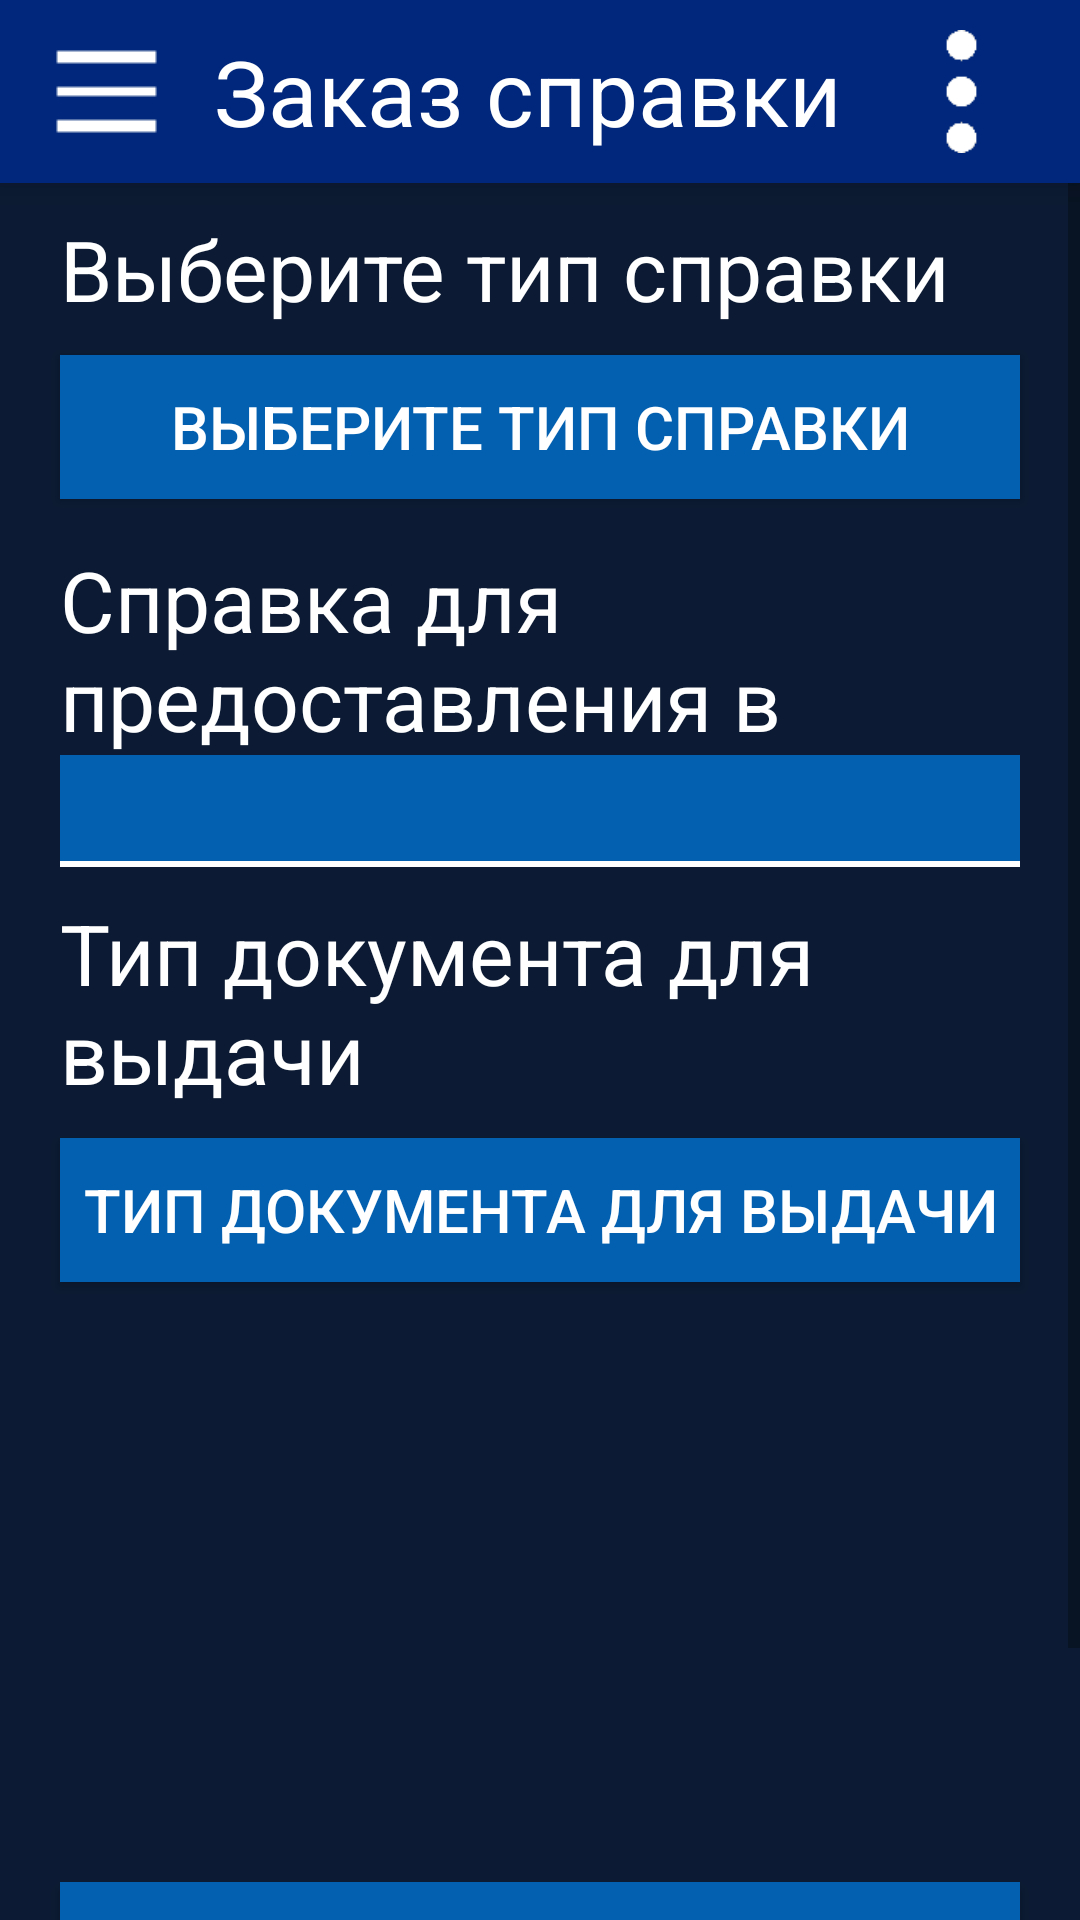

Icon bounding boxes for this 1080 × 1920 phone screenshot, format bbox=(x1, y1, x2, y2):
leftmenuicon: bbox=(56, 50, 157, 133)
